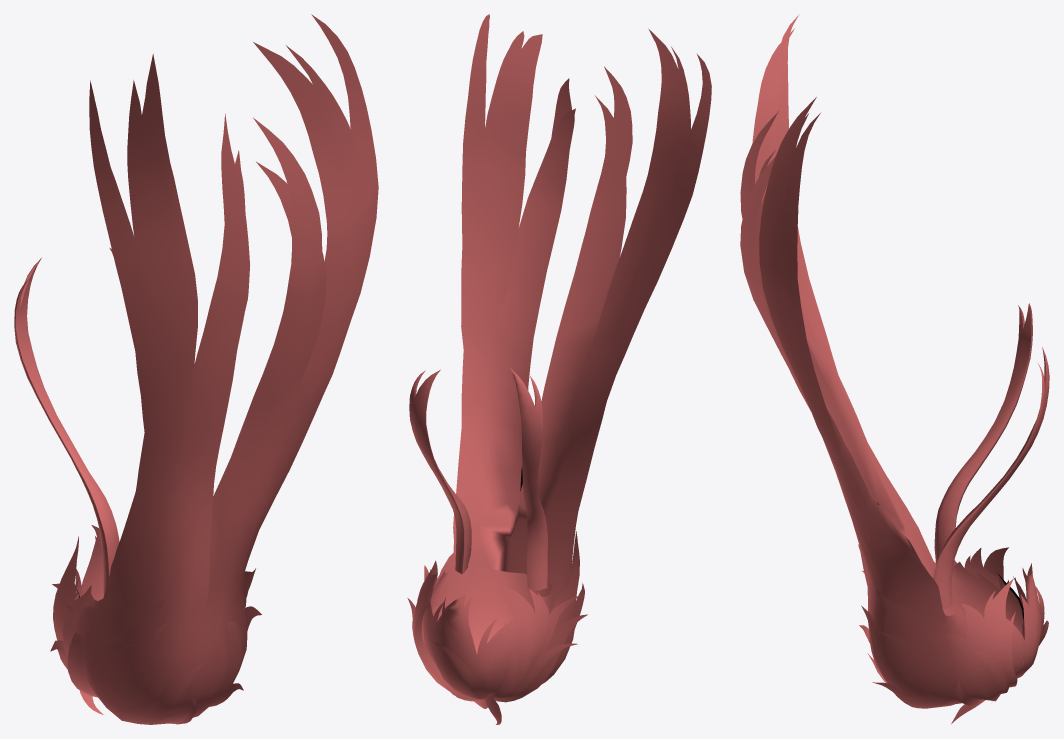
Rendered from Hair_N.fbx.
3 views of the same model, side by side, from view 1: azimuth 30°, elevation 25°; view 2: azimuth 150°, elevation 25°; view 3: azimuth 270°, elevation 25° (orthographic). The views are drawn at different scales.
Parts seen in each view (by area): view 1: hair; view 2: hair; view 3: hair.
Boxes of the visible parts, x1,y1,x2,y2 form: hair: (14, 14, 378, 724); hair: (407, 14, 711, 724); hair: (740, 14, 1049, 723).
Size of the model in its own units: 35.04 by 87.52 by 37.83.
